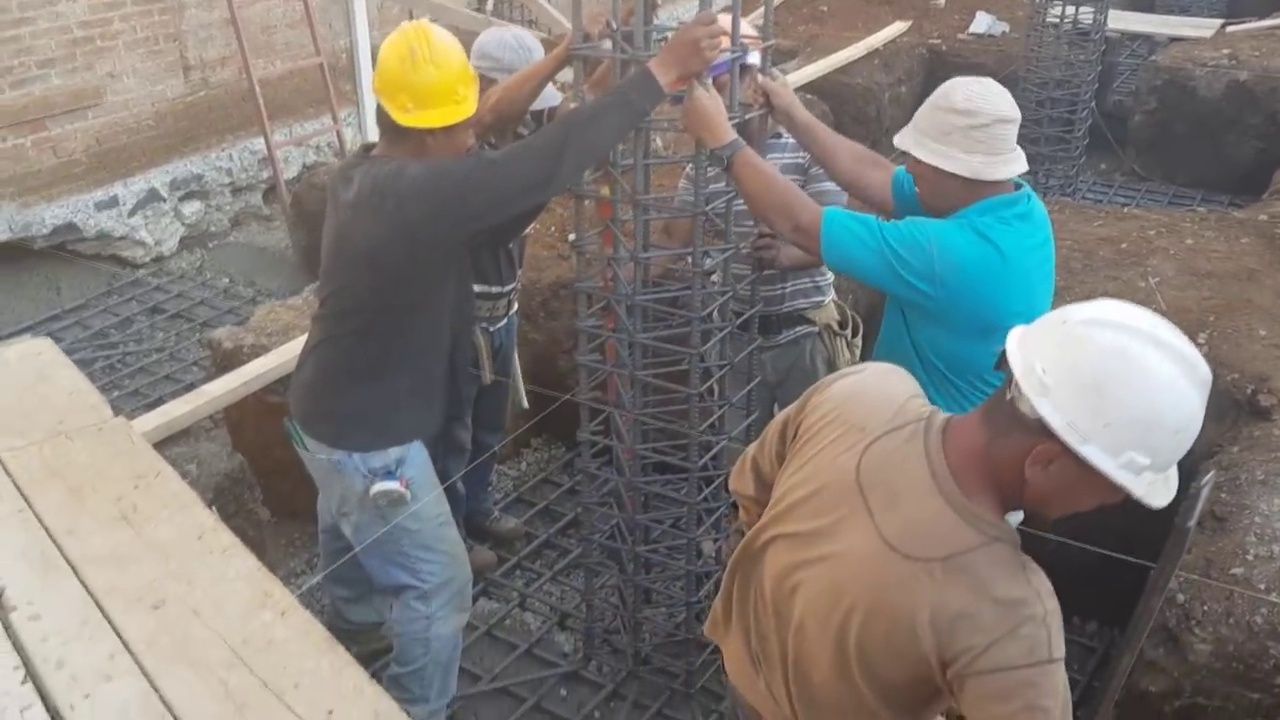helmet: (1003, 299, 1209, 515), (367, 16, 477, 139), (694, 20, 762, 67)
helmet-off: (886, 72, 1033, 222), (468, 15, 555, 148)
helmet-on: (970, 317, 1204, 553), (355, 21, 477, 166), (695, 19, 777, 130)
person: (262, 0, 610, 710), (710, 309, 1216, 720), (621, 42, 1055, 411), (680, 18, 870, 466), (439, 3, 574, 572)
